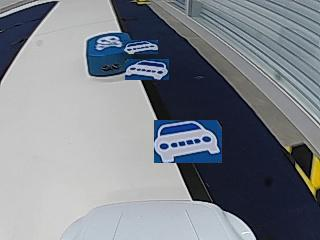danger: (95, 35, 122, 50)
